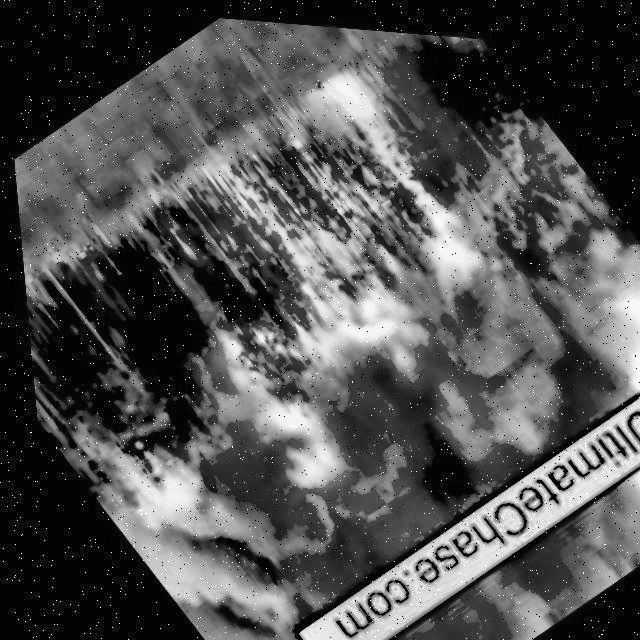Fire: (183, 43, 518, 385), (178, 311, 362, 515), (430, 28, 484, 50)
Smoke: (158, 162, 640, 639), (304, 433, 640, 640), (79, 442, 363, 640)
